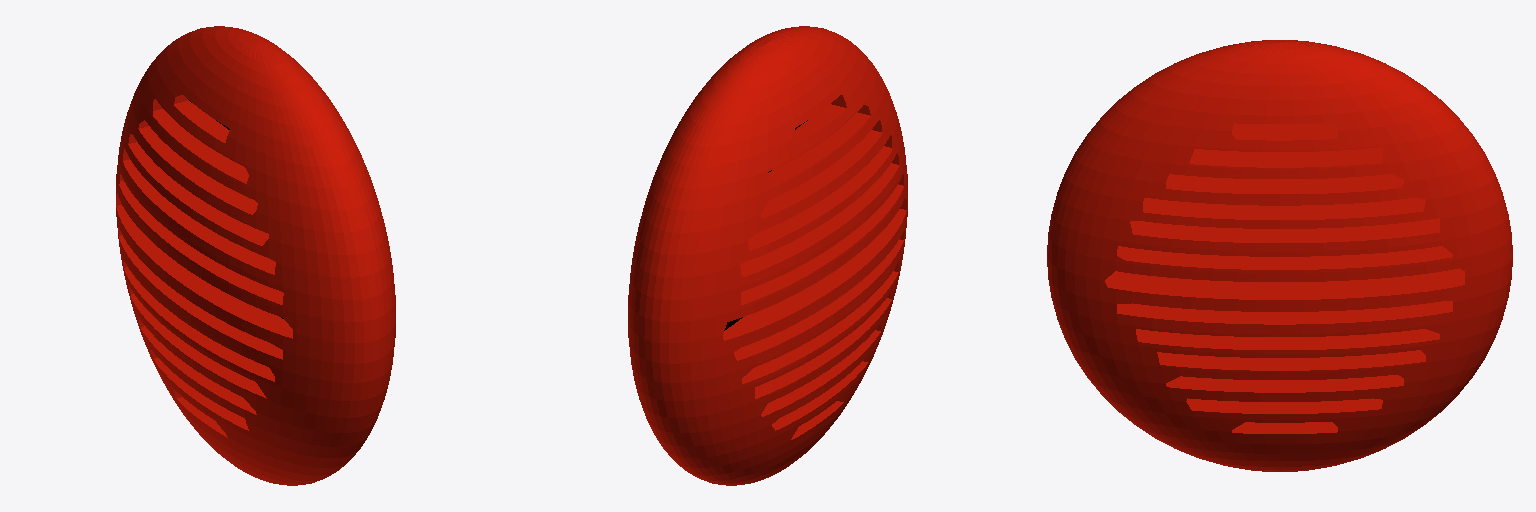
The model's file is Speaker.002.obj.
3 renders of one model, left to right at view 1: azimuth 30°, elevation 25°; view 2: azimuth 150°, elevation 25°; view 3: azimuth 270°, elevation 25°, orthographic.
Parts seen in each view (by area): view 1: Speaker.002_Sphere.001; view 2: Speaker.002_Sphere.001; view 3: Speaker.002_Sphere.001.
Part boxes in pixels (bbox=[...]): Speaker.002_Sphere.001: bbox=[116, 26, 395, 485]; Speaker.002_Sphere.001: bbox=[628, 26, 907, 485]; Speaker.002_Sphere.001: bbox=[1047, 40, 1512, 471].
Bounding box in the file's own units: 0.1227 × 0.3212 × 0.3179.